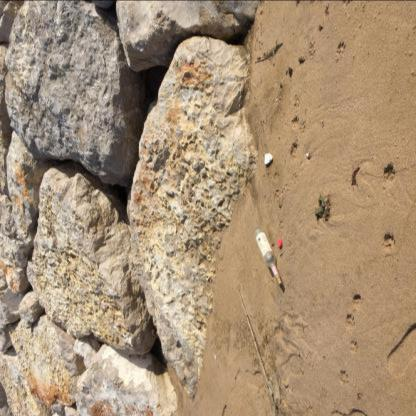Bottle: (277, 240, 282, 247)
Bottle cap: (253, 226, 280, 280)
Other litter: (314, 196, 324, 215)
Plastic bag - wrapper: (268, 374, 281, 416)
Styrofoam piece: (264, 153, 273, 164)
